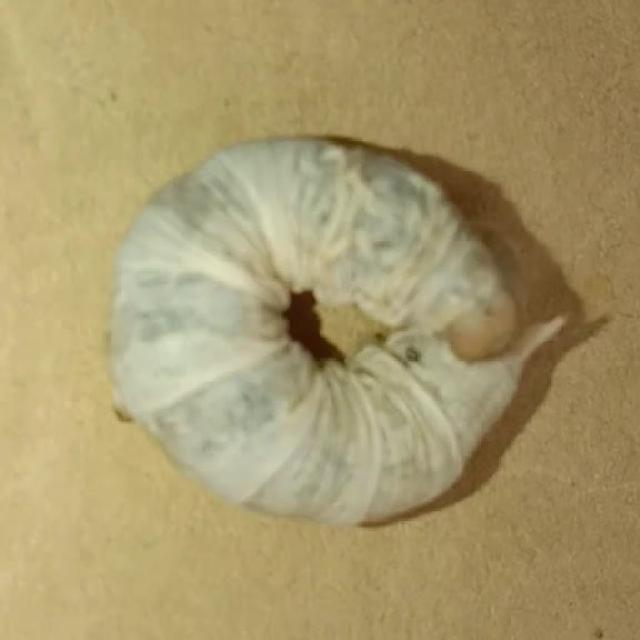Grasserie: (91, 95, 558, 543)
